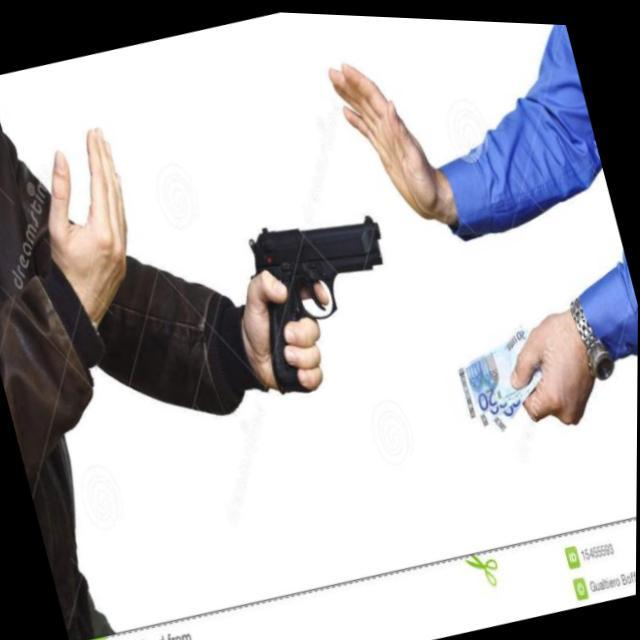weapon: (235, 194, 416, 400)
